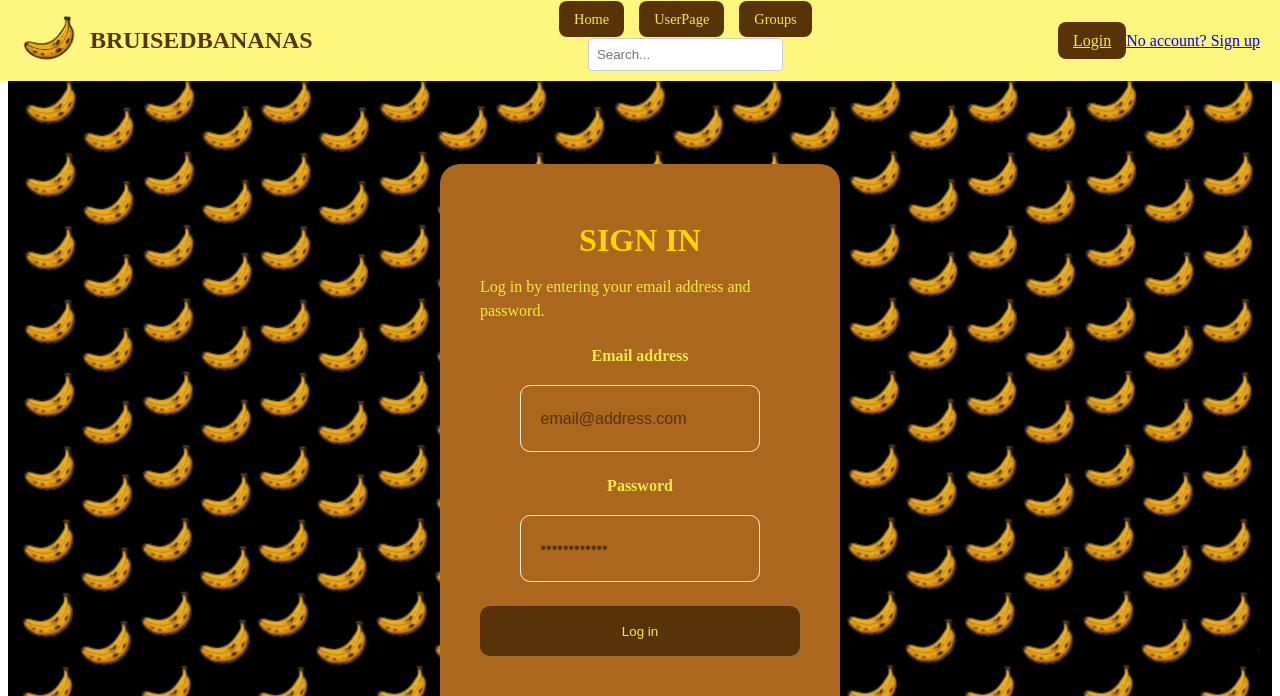
Test case: Login component (new tests) › shows generic error on fetch failure
This screenshot has width=1280, height=696.
Type "user@test.com" into the field with placeholder "email@address.com".
click(644, 419); type("user@test.com")  # box [538,393,750,445]
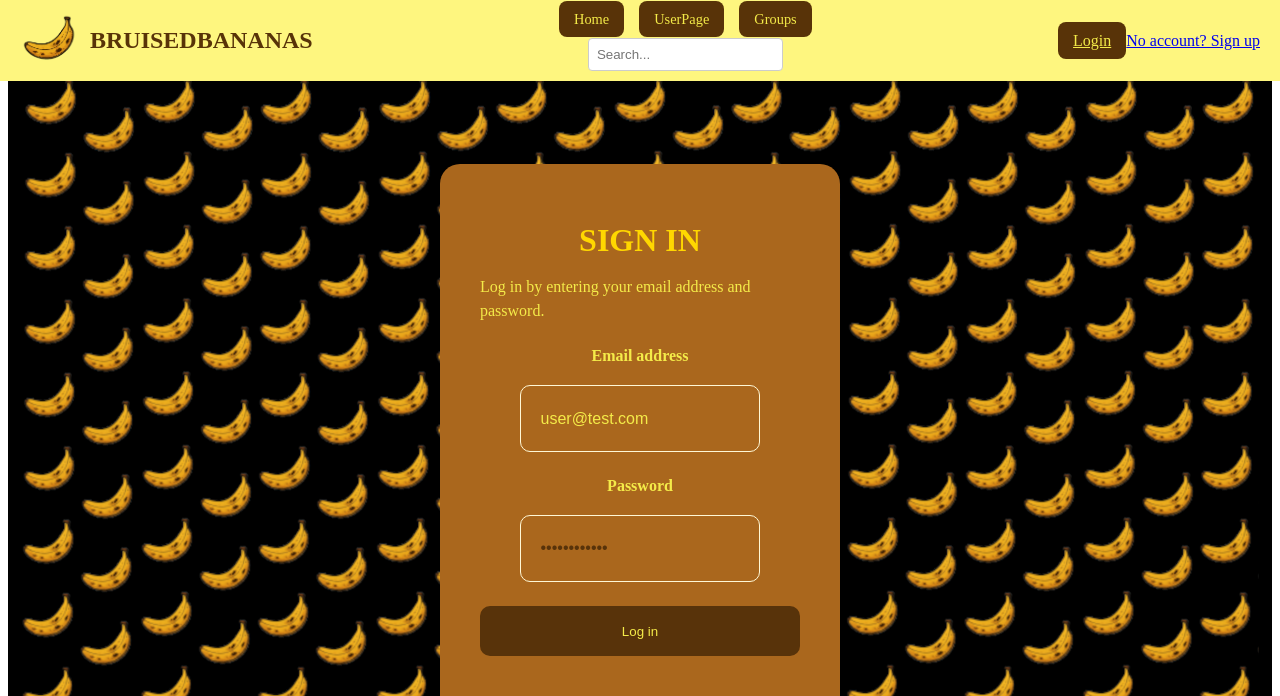
Type "password123" into the password field with placeholder "••••••••••••".
click(644, 548); type("password123")  # box [538,522,750,574]
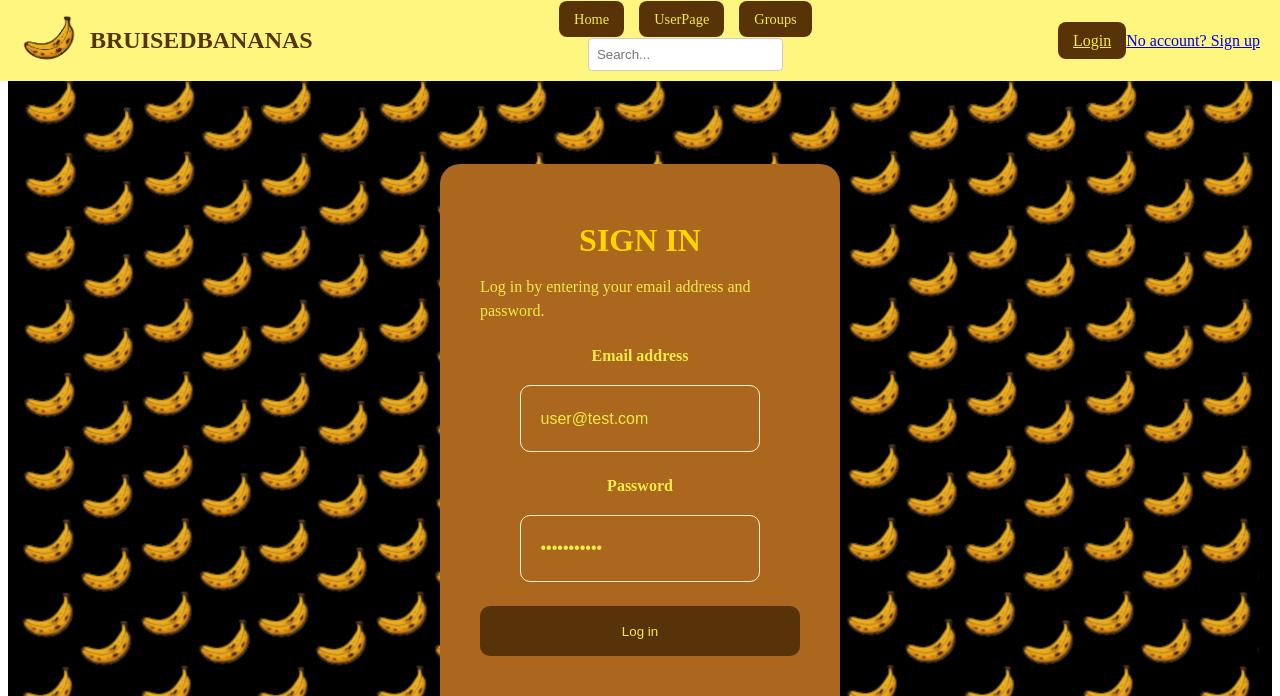
Click the button "Log in".
click(640, 631)  # box [480,606,800,656]
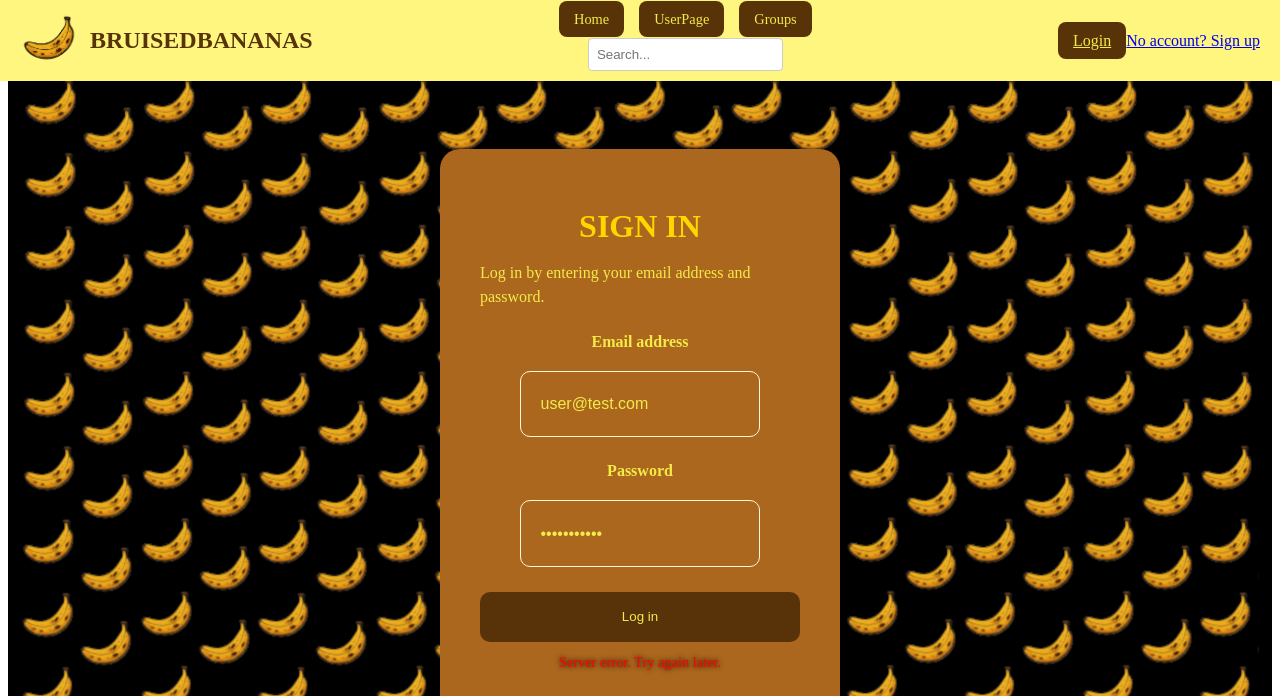
Now the text "Server error. Try again later." is shown, box [559,654,721,671]
